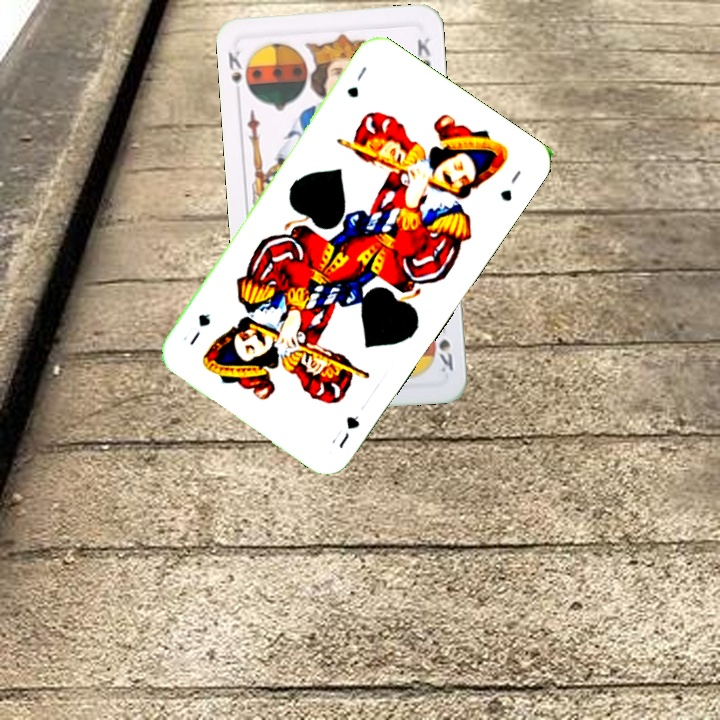GU: (334, 412, 363, 451), (342, 62, 370, 101)
SK: (224, 46, 253, 98), (435, 335, 456, 375)
